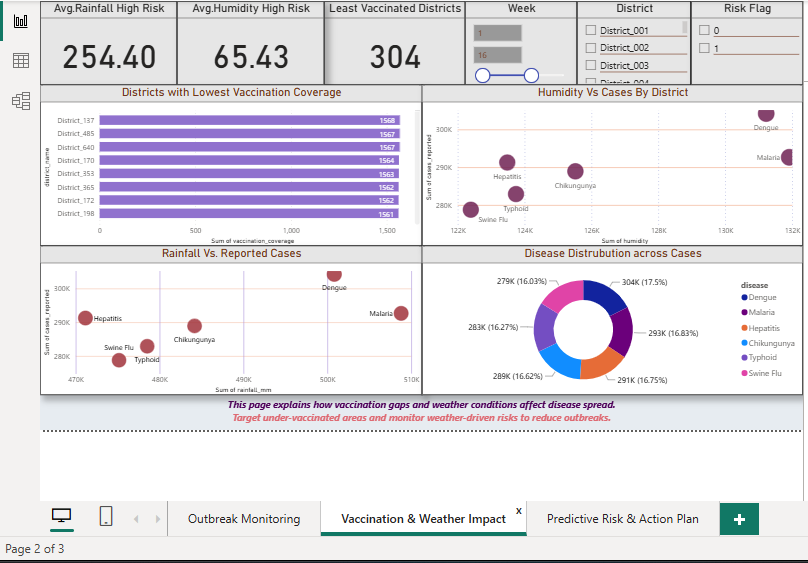

Layout of this report page (visuals, bound fields, positions):
{"tool":"powerbi","page":{"name":"Vaccination & Weather Impact","canvas":[1280,720],"ordinal":1},"visuals":[{"type":"textbox","box":[0,661,1280,58.7],"z":0},{"type":"card","box":[0,0,229.8,140.9],"z":1000},{"type":"card","title":"Avg.Rainfall High Risk","fields":{"Values":["Master.Avg Rainfall High Risk"]},"box":[0,0,229.8,140.9],"z":2000},{"type":"card","title":"Least  Vaccinated Districts","fields":{"Values":["Master.Districts Low Vax"]},"box":[476.4,0,236.5,140.9],"z":3000},{"type":"card","title":"Avg.Humidity High Risk","fields":{"Values":["Master.Avg Humidity High Risk"]},"box":[229.8,0,246.6,140.9],"z":4000},{"type":"slicer","title":"Week","fields":{"Values":["Master.week"]},"box":[713,0,187.9,140.9],"z":5000},{"type":"slicer","title":"District","fields":{"Values":["Master.district_name"]},"box":[900.9,0,191.2,140.9],"z":6000},{"type":"slicer","title":"Risk Flag","fields":{"Values":["Master.risk_flag"]},"box":[1092.1,0,187.9,140.9],"z":7000},{"type":"barChart","title":"Districts with Lowest Vaccination Coverage","fields":{"Category":["Master.district_name"],"Y":["Sum(Master.vaccination_coverage)"]},"box":[0,140.9,640.8,270.1],"z":8000},{"type":"scatterChart","title":"Rainfall Vs. Reported Cases","fields":{"X":["Sum(Master.rainfall_mm)"],"Y":["Sum(Master.cases_reported)"],"Category":["Master.disease"],"Size":["Master.Total Cases"]},"box":[0,411,640.8,250],"z":9000},{"type":"scatterChart","title":"Humidity Vs Cases By District","fields":{"X":["Sum(Master.humidity)"],"Y":["Sum(Master.cases_reported)"],"Category":["Master.disease"],"Size":["Sum(Master.vaccination_coverage)"]},"box":[640.8,140.9,639.2,270.1],"z":10000},{"type":"donutChart","title":"Disease Distrubution across Cases","fields":{"Category":["Master.disease"],"Y":["Sum(Master.cases_reported)"]},"box":[640.8,411,639.2,250],"z":11000}]}

Visuals, with their boxes on the page's 1280x720 design canvas (x1, y1, x2, y2). These are canvas units, not pixel positions in the 808x563 screenshot, which may show the page scaled, cropped or inside an application window:
textbox: box(0, 661, 1280, 720)
card: box(0, 0, 230, 141)
"Avg.Rainfall High Risk" card: box(0, 0, 230, 141)
"Least  Vaccinated Districts" card: box(476, 0, 713, 141)
"Avg.Humidity High Risk" card: box(230, 0, 476, 141)
"Week" slicer: box(713, 0, 901, 141)
"District" slicer: box(901, 0, 1092, 141)
"Risk Flag" slicer: box(1092, 0, 1280, 141)
"Districts with Lowest Vaccination Coverage" barChart: box(0, 141, 641, 411)
"Rainfall Vs. Reported Cases" scatterChart: box(0, 411, 641, 661)
"Humidity Vs Cases By District" scatterChart: box(641, 141, 1280, 411)
"Disease Distrubution across Cases" donutChart: box(641, 411, 1280, 661)
